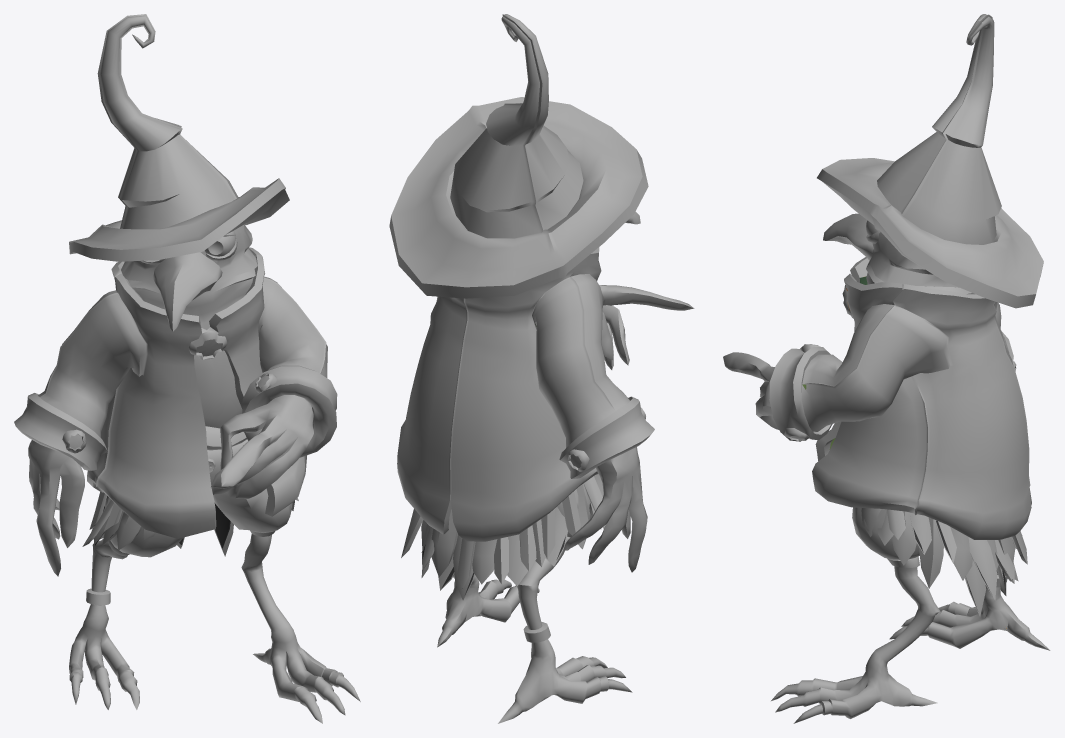
Rendered from Birdbrain.fbx.
3 views of the same model, side by side, from view 1: azimuth 30°, elevation 25°; view 2: azimuth 150°, elevation 25°; view 3: azimuth 270°, elevation 25° (orthographic). The views are drawn at different scales.
Parts seen in each view (by area): view 1: pasted__L_Eye_pasted__polySurface123; view 2: pasted__L_Eye_pasted__polySurface123; view 3: pasted__L_Eye_pasted__polySurface123.
Part boxes in pixels (x1,y1,x2,y2): pasted__L_Eye_pasted__polySurface123: (14, 14, 360, 723); pasted__L_Eye_pasted__polySurface123: (389, 14, 694, 723); pasted__L_Eye_pasted__polySurface123: (723, 14, 1050, 723).
Bounding box in the file's own units: 9.69 × 23.83 × 10.95.
